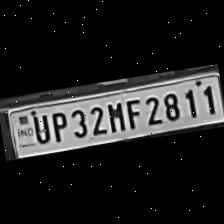1: (178, 84, 201, 119), (198, 80, 218, 116)
2: (139, 91, 163, 127), (84, 101, 107, 136)
3: (66, 104, 88, 139)
8: (157, 88, 182, 122)
F: (121, 95, 143, 129)
M: (103, 98, 127, 134)
P: (47, 107, 70, 141)
U: (28, 110, 51, 144)
